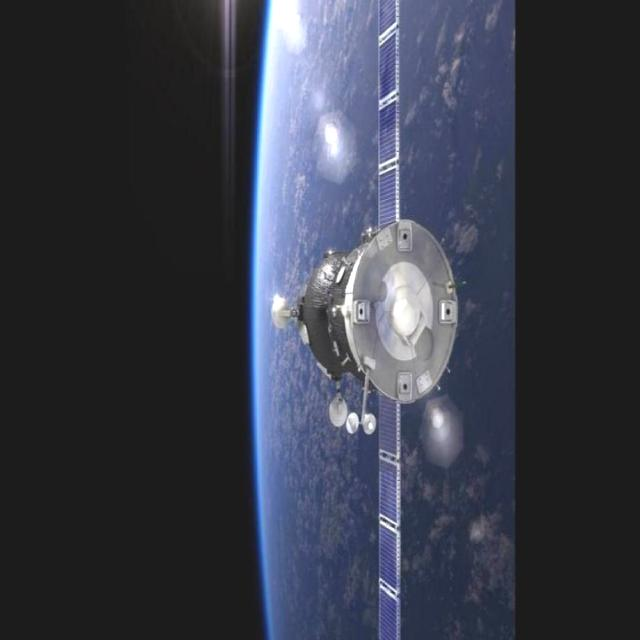satellite: (270, 0, 466, 640)
